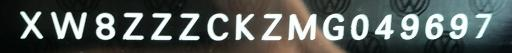letter: (47, 7, 87, 40), (13, 9, 47, 40), (286, 12, 320, 43), (230, 11, 260, 44), (118, 8, 144, 43), (372, 9, 398, 40), (348, 10, 374, 41), (149, 10, 175, 41), (92, 10, 118, 41), (177, 11, 203, 42), (444, 11, 470, 40), (322, 11, 348, 40), (397, 12, 423, 41), (259, 12, 283, 43), (470, 10, 494, 39), (206, 11, 230, 40), (422, 12, 442, 41)
